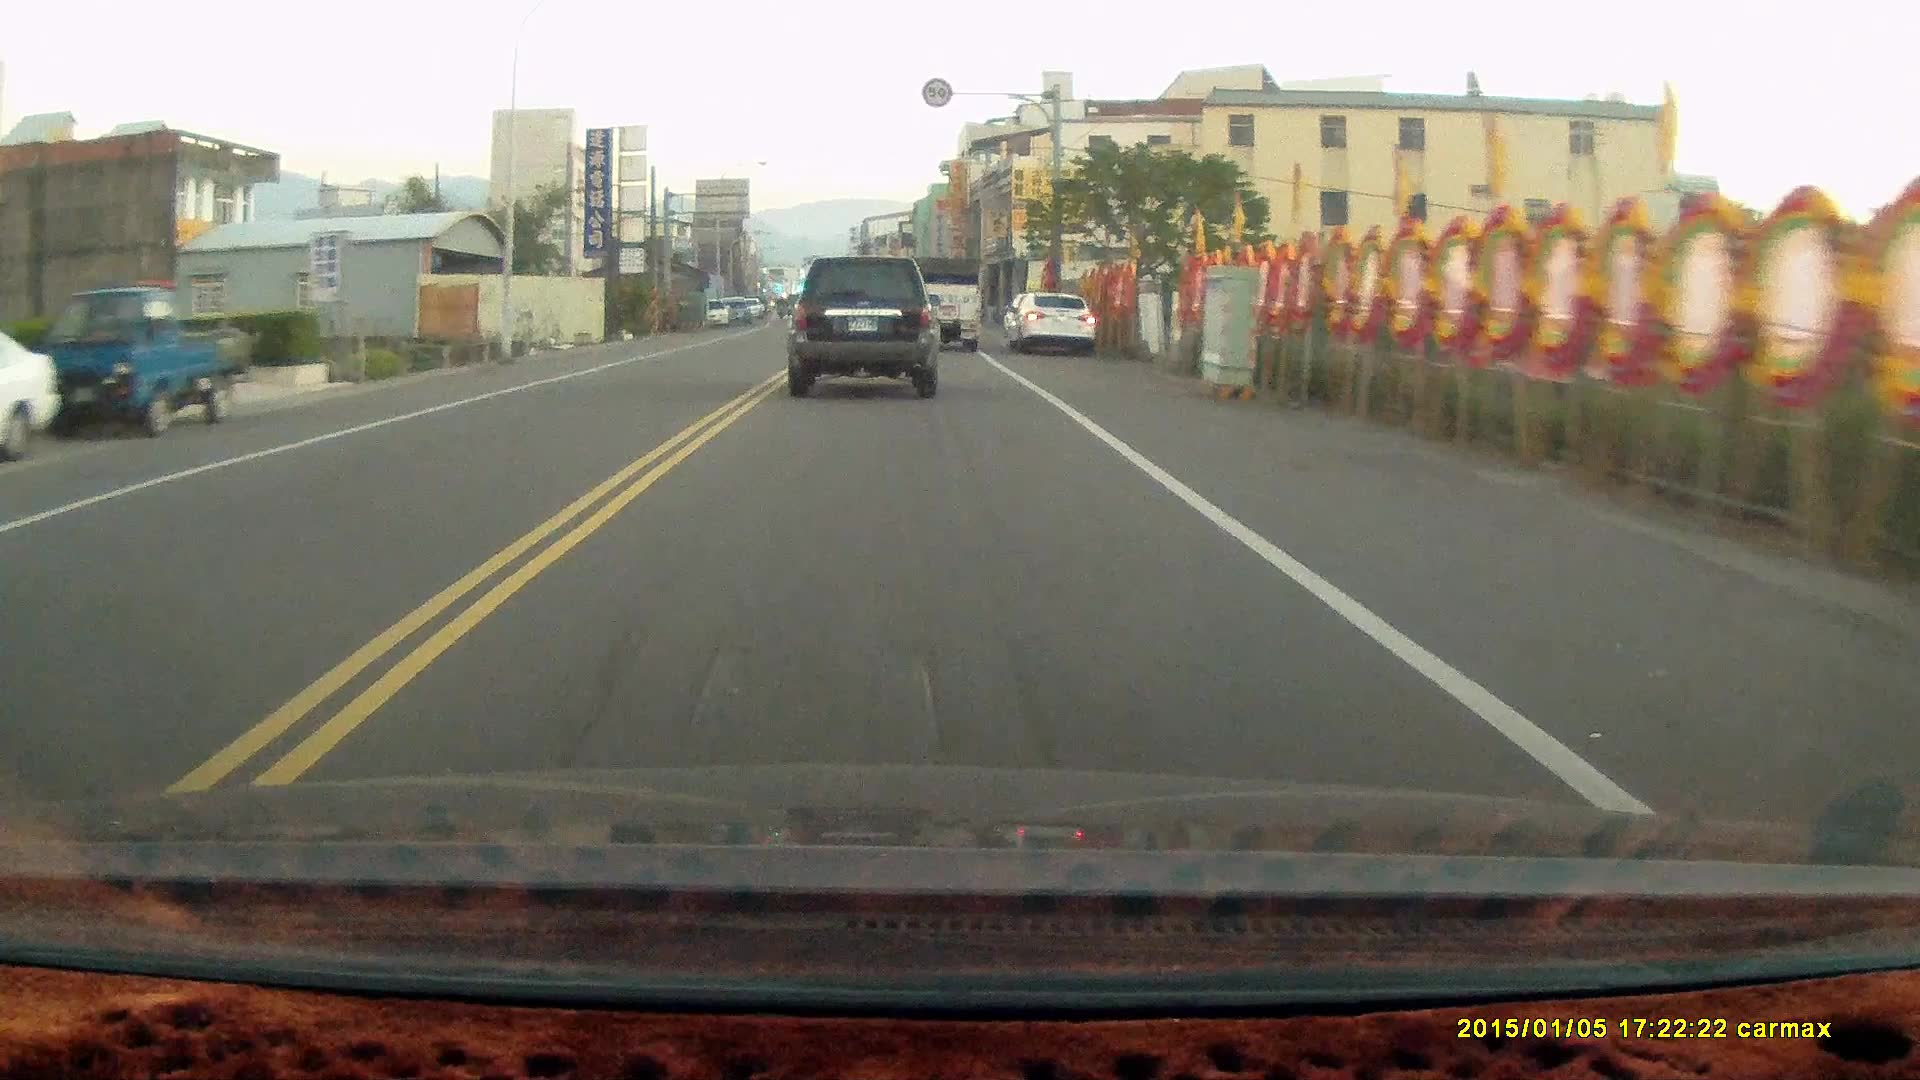vehicle: (36, 286, 251, 442), (789, 258, 940, 404), (1, 320, 65, 460), (911, 255, 986, 353), (1009, 291, 1101, 356)
